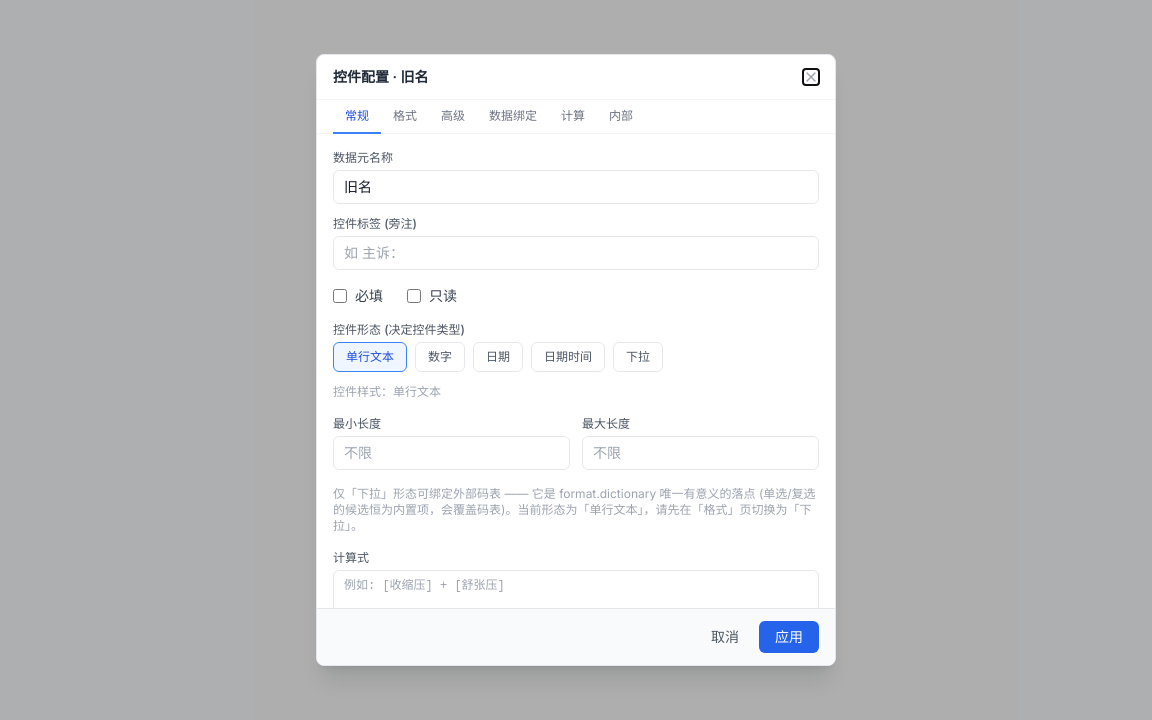
ControlInputDialog — 语义身份可编辑 (契约 §12.5) › 提示随输入实时变化: 改成没人用的键 → 提示消失
Click the tab "内部": (621, 117) left=597, top=100, right=645, bottom=134
(page scrolled)
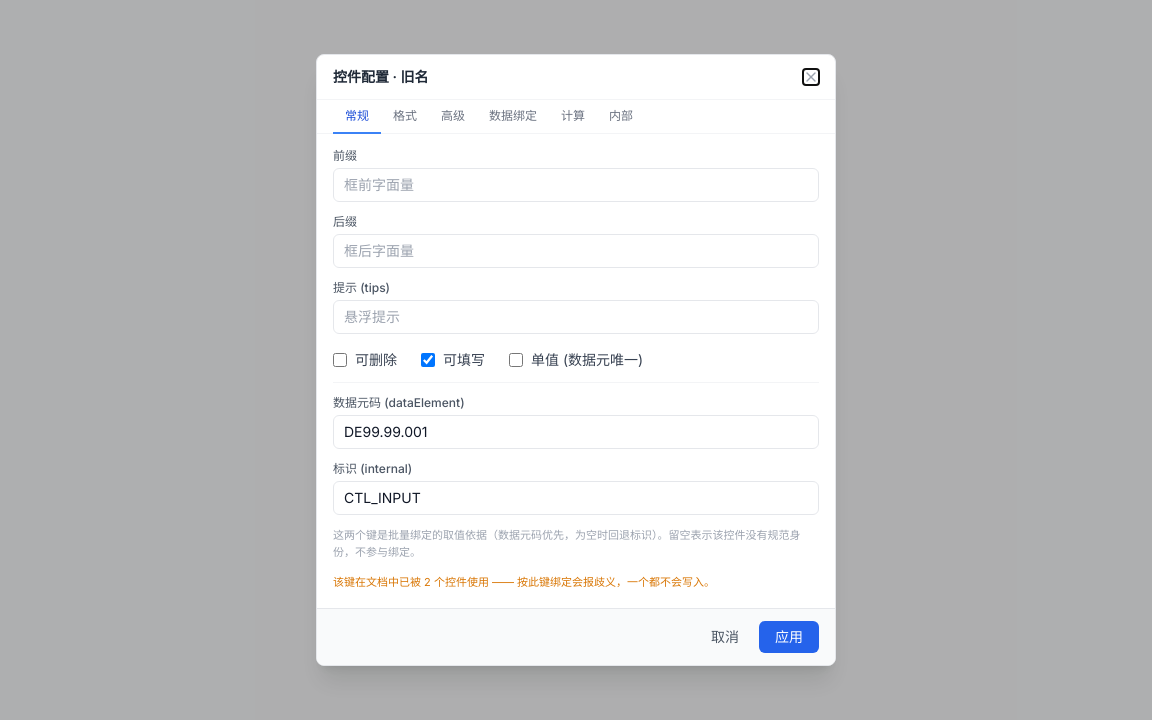
Now the text "该键在文档中已被 2 个控件使用 —— 按此键绑定会报歧义，一个都不会写入。" is shown, box left=333, top=575, right=715, bottom=589
Replace the text in the field labelled "数据元码 (dataElement)" with "DE_UNIQUE": (576, 432) left=333, top=414, right=819, bottom=448
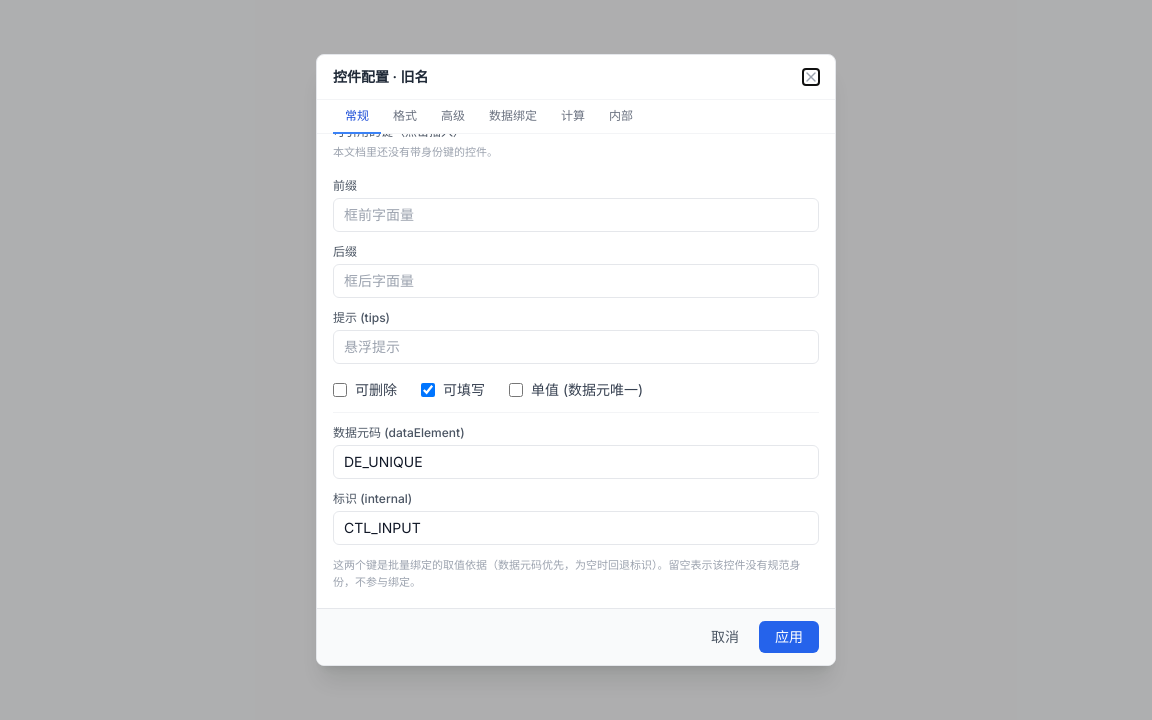
Now the text "该键在文档中已被 2 个控件使用 —— 按此键绑定会报歧义，一个都不会写入。" is gone
